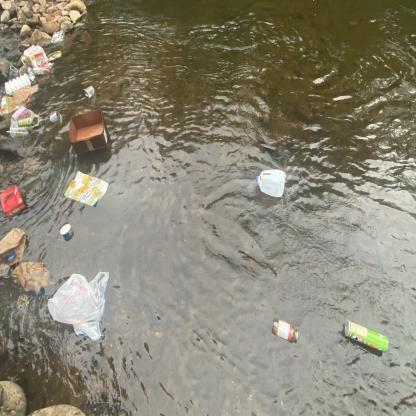Glass: (269, 312, 302, 345)
Metal: (339, 317, 391, 356), (46, 110, 65, 124), (45, 48, 64, 62)
Plastic: (44, 264, 112, 344), (0, 71, 34, 112), (254, 167, 289, 200), (16, 44, 50, 76), (49, 29, 67, 45), (82, 85, 98, 100)
Trash: (10, 257, 52, 296), (0, 226, 30, 275), (58, 218, 76, 241)
